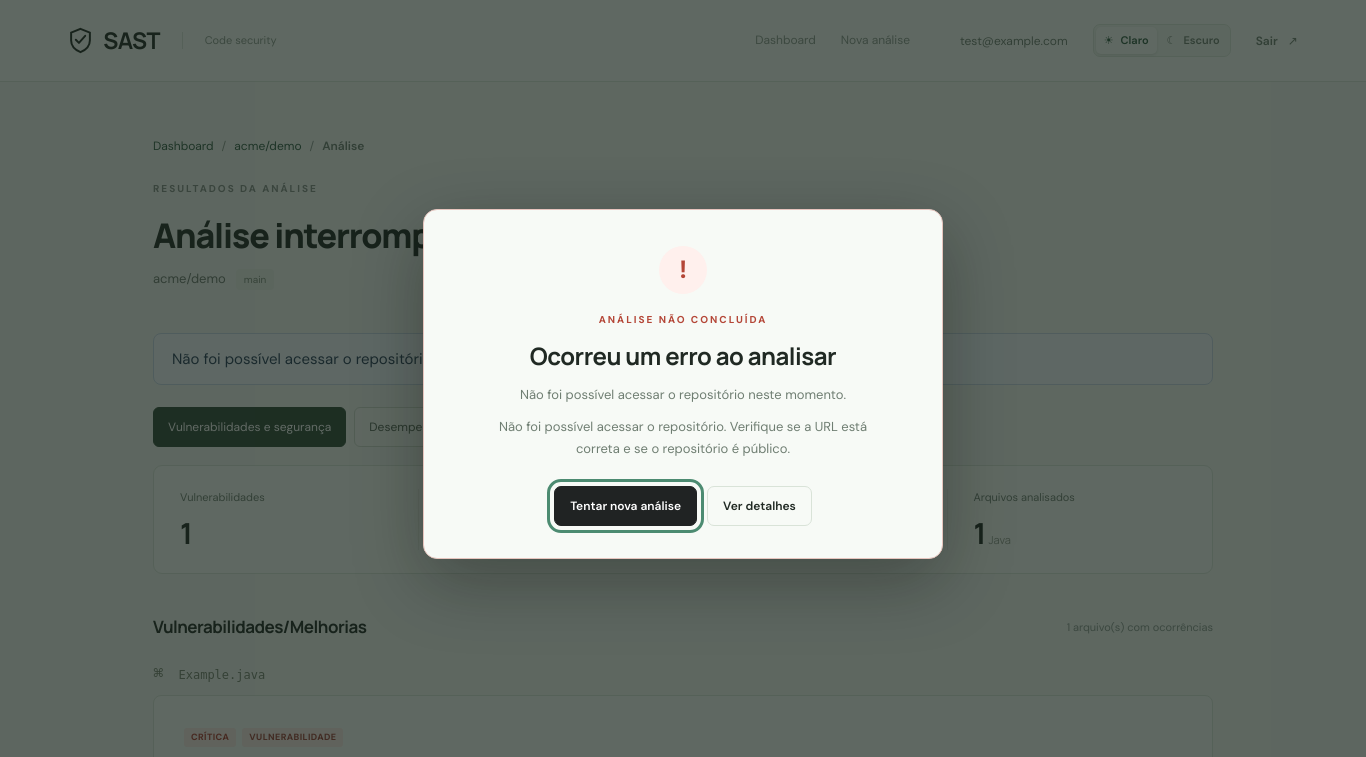
Scenario: fluxo autenticado da análise › mostra um modal amigável quando a análise é interrompida
Expected: the dialog "Ocorreu um erro ao analisar" shows "Não foi possível acessar o repositório", [499, 418, 867, 457]
Expected: the dialog "Ocorreu um erro ao analisar" shows "Verifique se a URL está correta e se o repositório é público.", [499, 418, 867, 457]
Click the button "Ver detalhes" at x=760, y=506, box [707, 486, 812, 526]
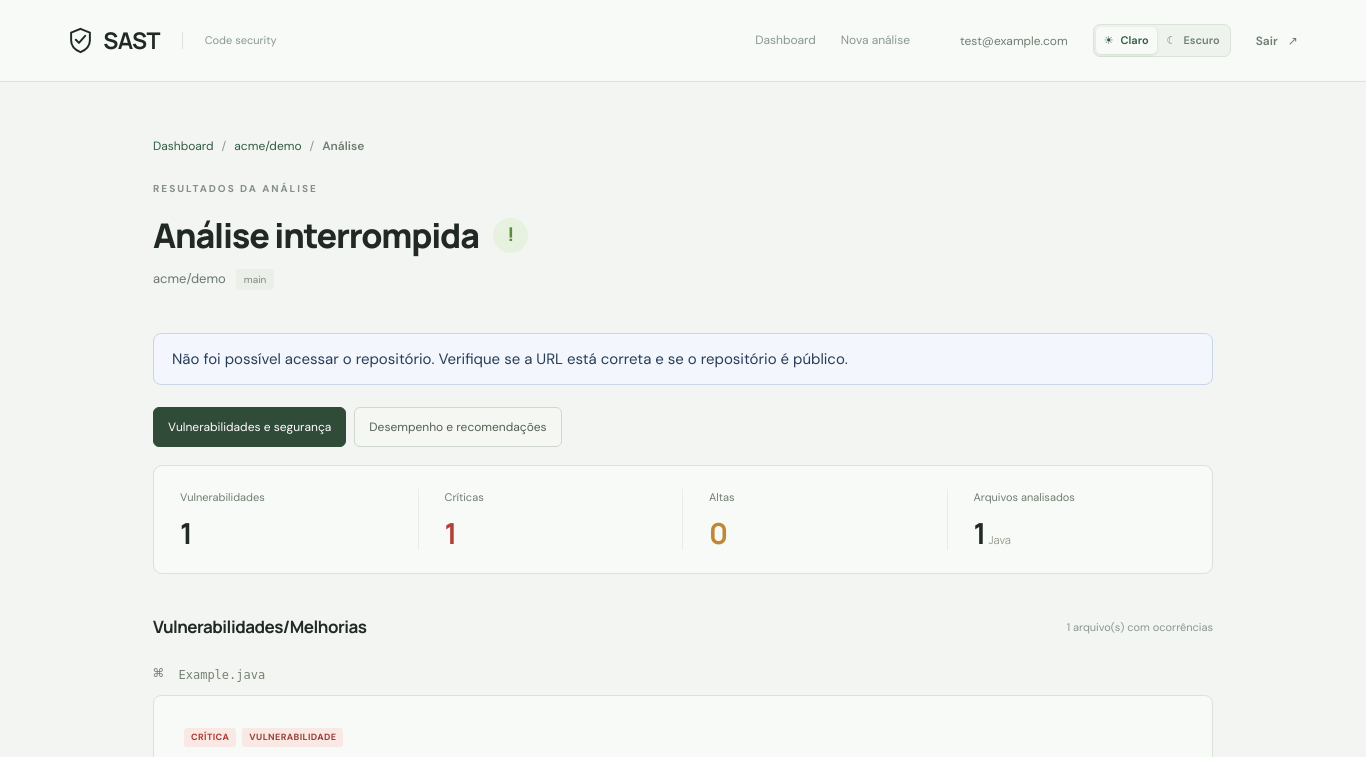
Expected: the message shows "Não foi possível acessar o repositório", [172, 348, 848, 368]
Now the heading "Ocorreu um erro ao analisar" is gone
